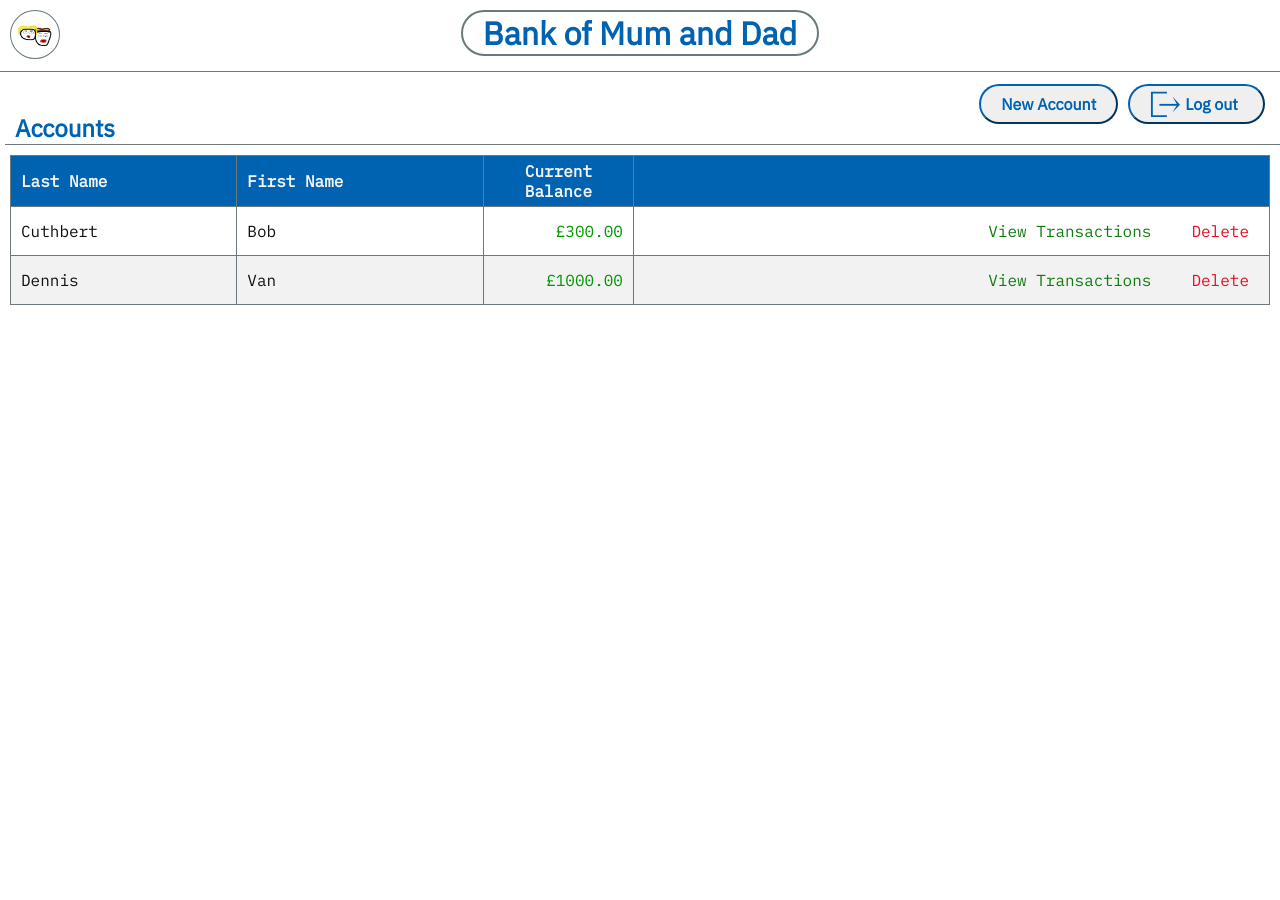
Test: accounts page › new account form › displays error if no last name entered
Step 1. Click the button "New Account" → (1049, 104), box [979,84,1118,124]
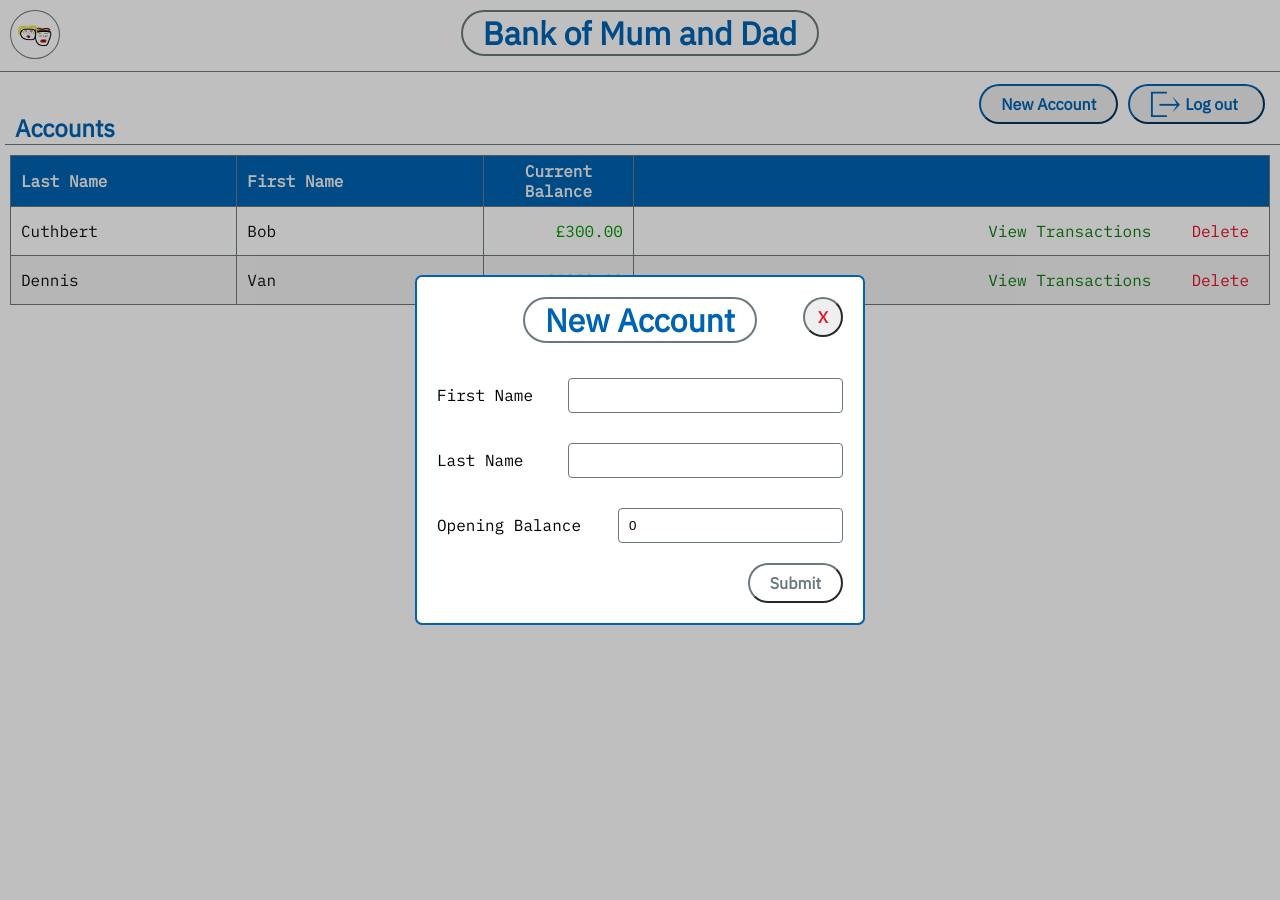
Step 2. Type "name" into the field labelled "First Name" → (706, 396), box [568,378,843,413]
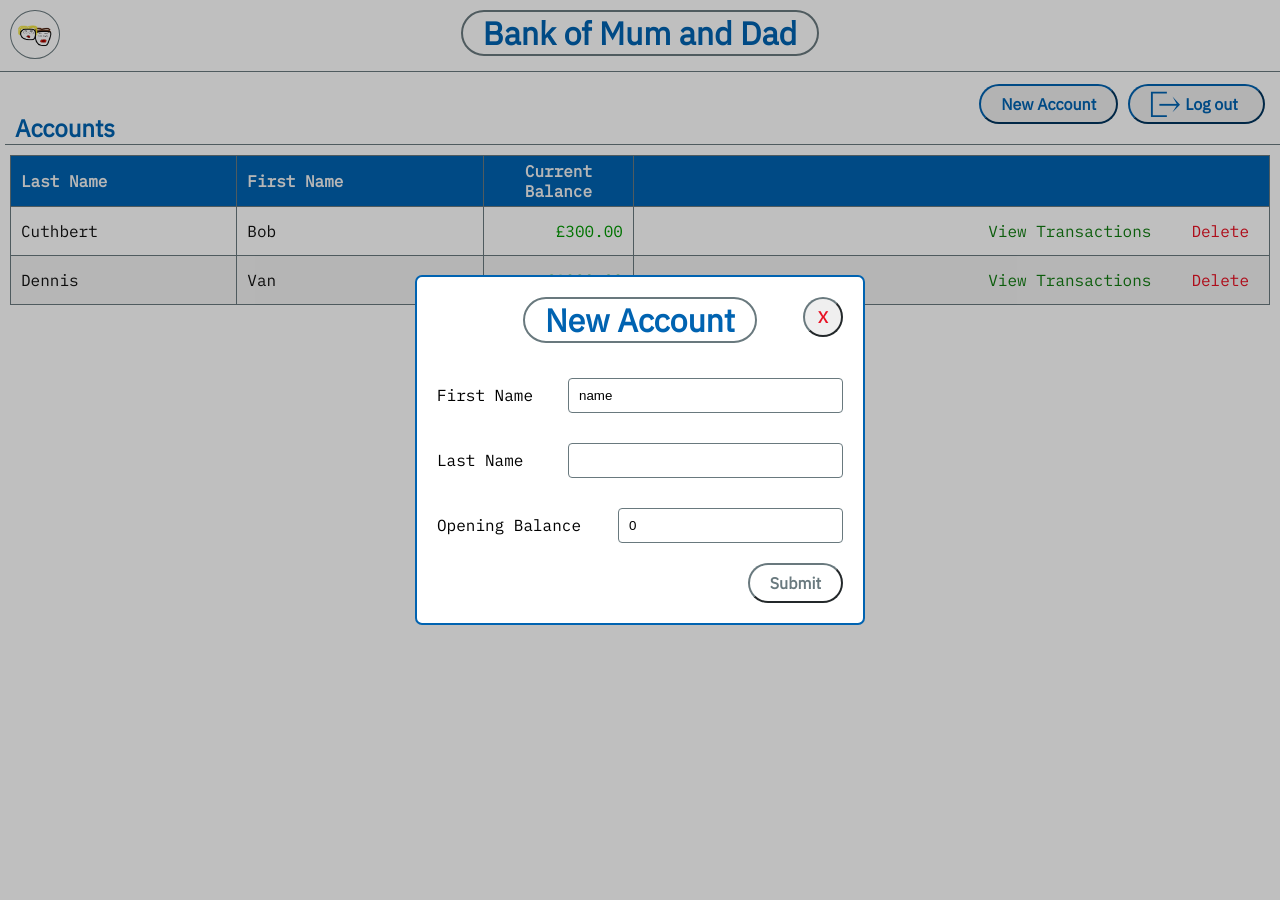
Step 3. Click the field labelled "Last Name" → (706, 460), box [568,443,843,478]
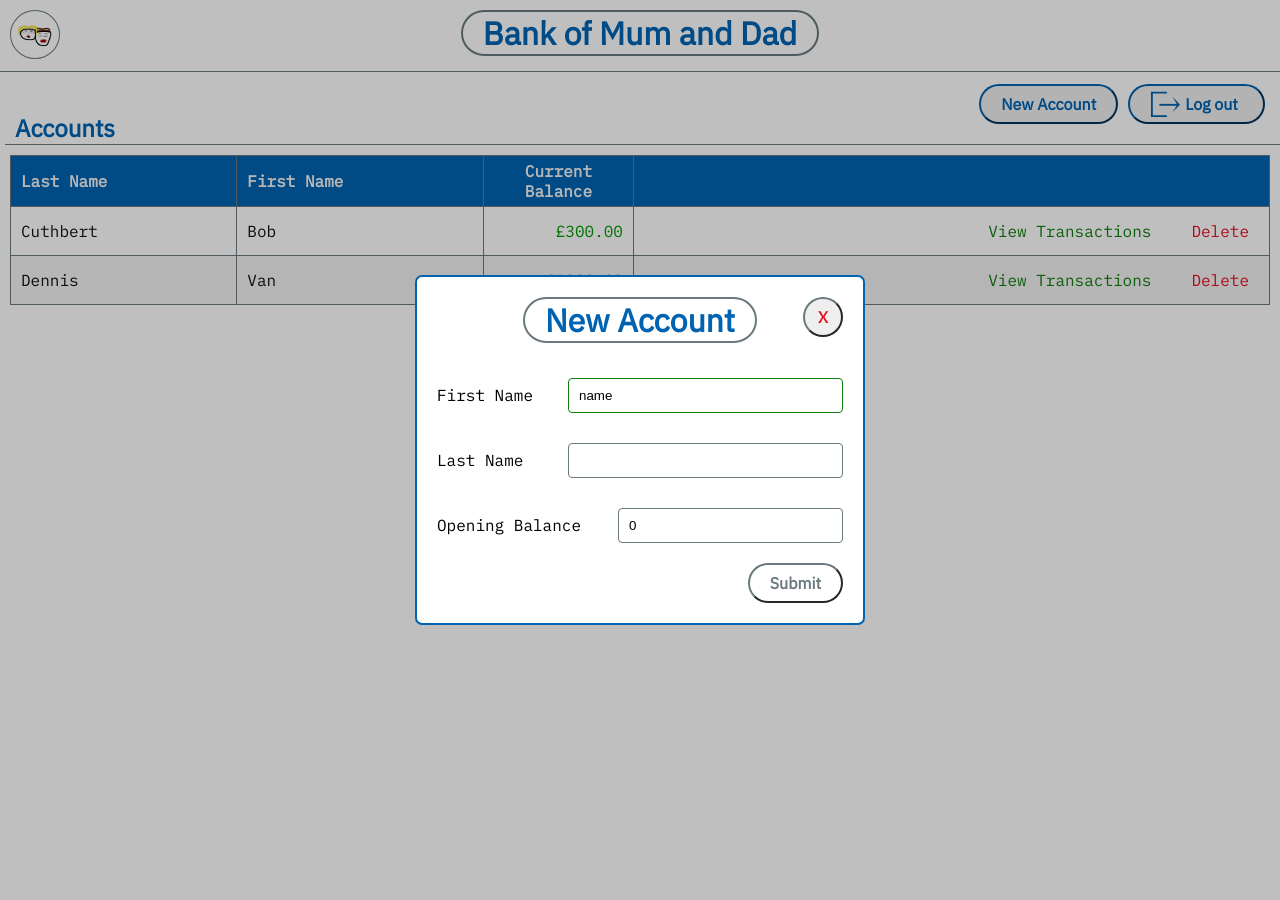
Step 4. Press Tab
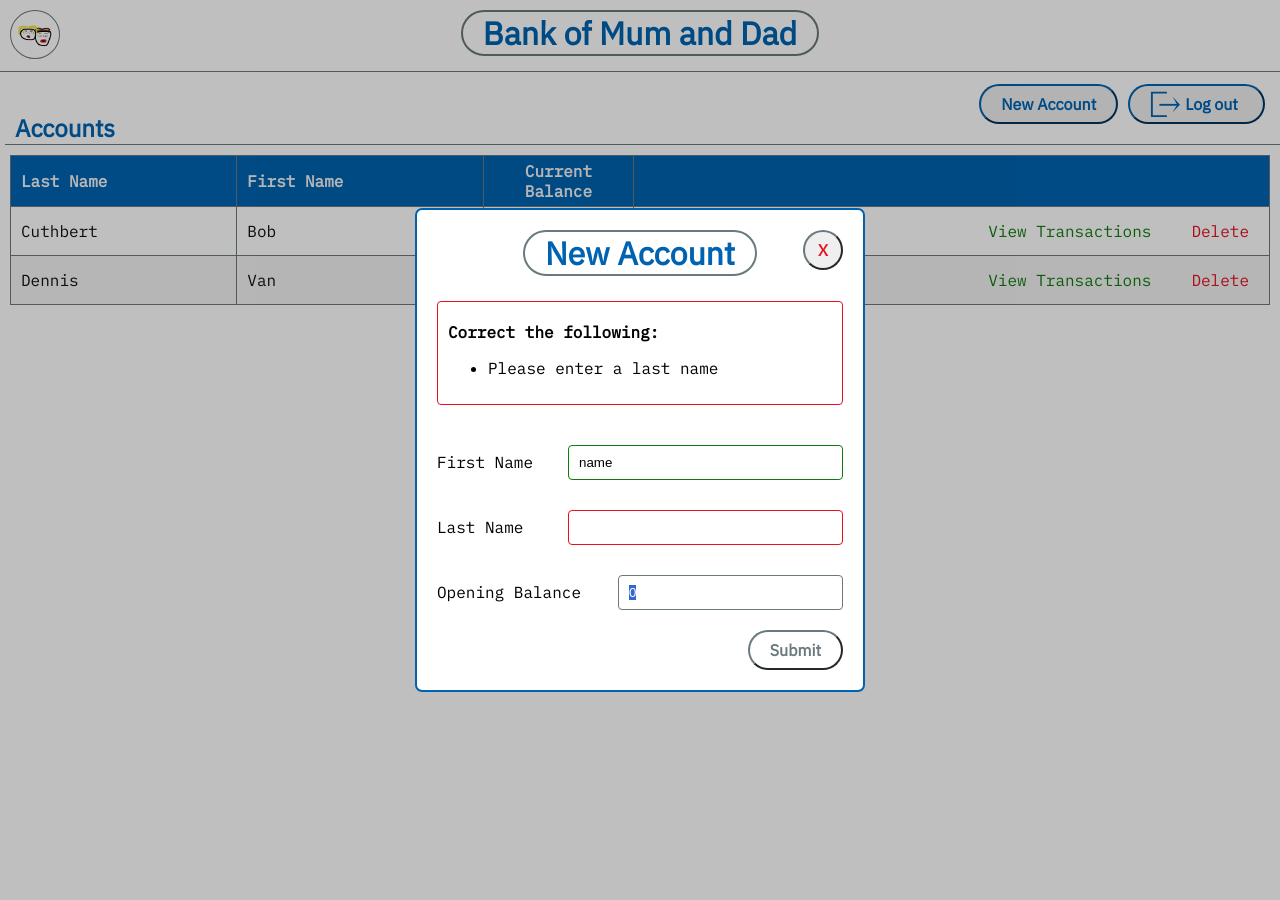
Now the list item reads "Please enter a last name", box [488,358,718,378]
